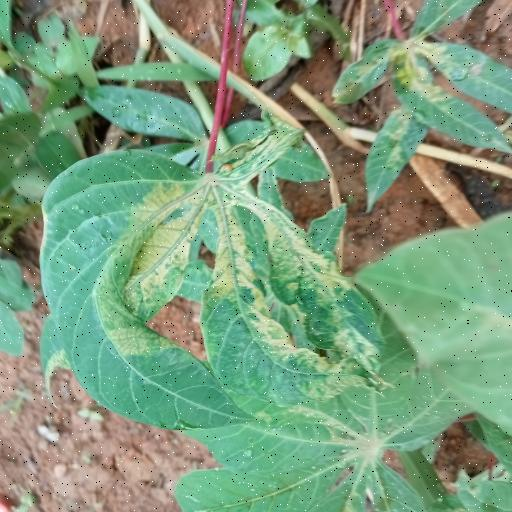Cassava_Mosaic: (45, 143, 399, 429), (337, 30, 512, 188)
